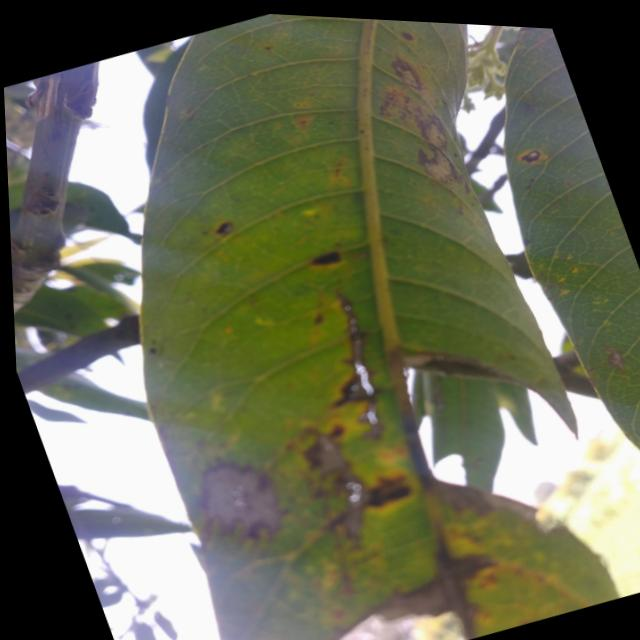Anthracnose: (303, 238, 353, 277), (518, 141, 553, 173), (209, 218, 236, 245)
